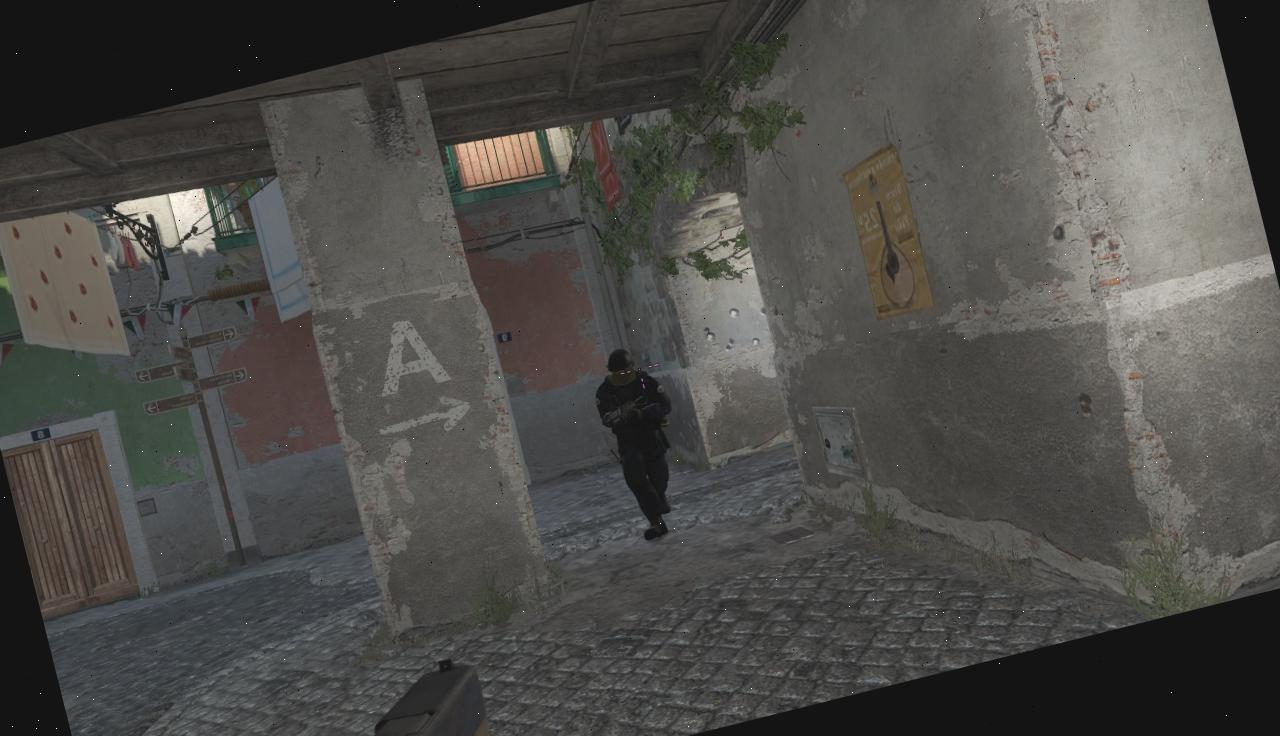ct: (590, 341, 696, 543)
cthead: (602, 346, 639, 388)
pistol: (243, 648, 510, 736)
